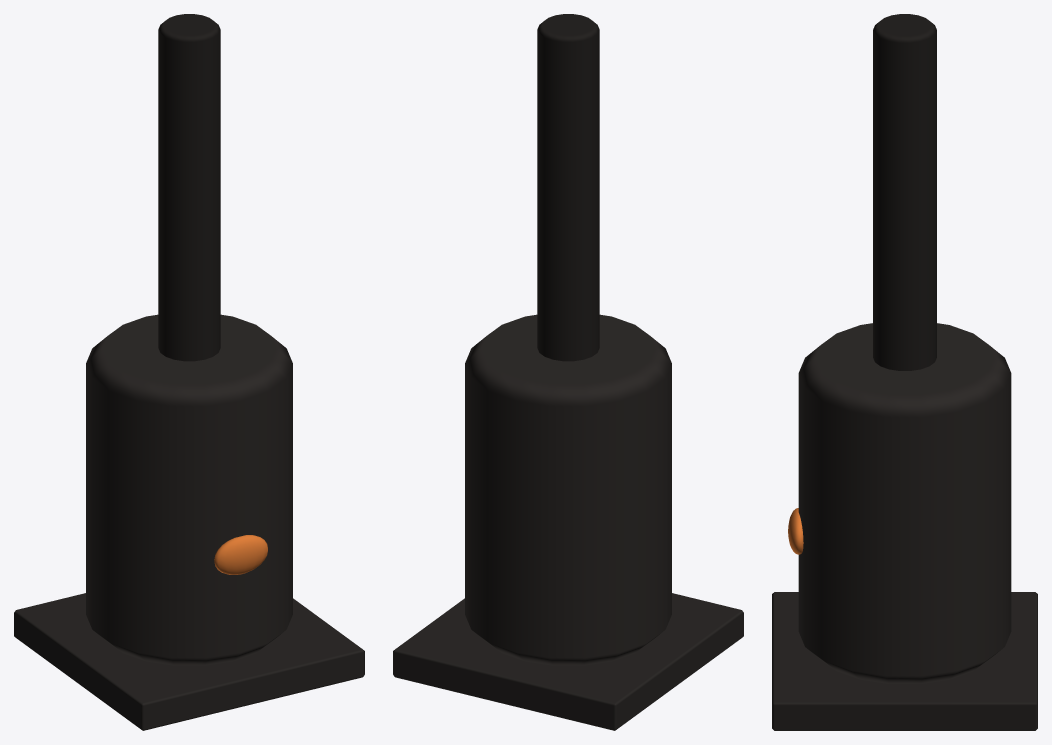
The model's file is stove.e4b6b908.glb.
3 views of the same model, side by side, from view 1: azimuth 30°, elevation 25°; view 2: azimuth 150°, elevation 25°; view 3: azimuth 270°, elevation 25° (orthographic). The views are drawn at different scales.
Parts seen in each view (by area): view 1: body; view 2: body; view 3: body.
Boxes of the visible parts, left/top/right/bottom form: body: left=14, top=14, right=364, bottom=730; body: left=393, top=14, right=743, bottom=730; body: left=772, top=14, right=1037, bottom=730.
Size of the model in its own units: 0.5 by 1.35 by 0.5.
